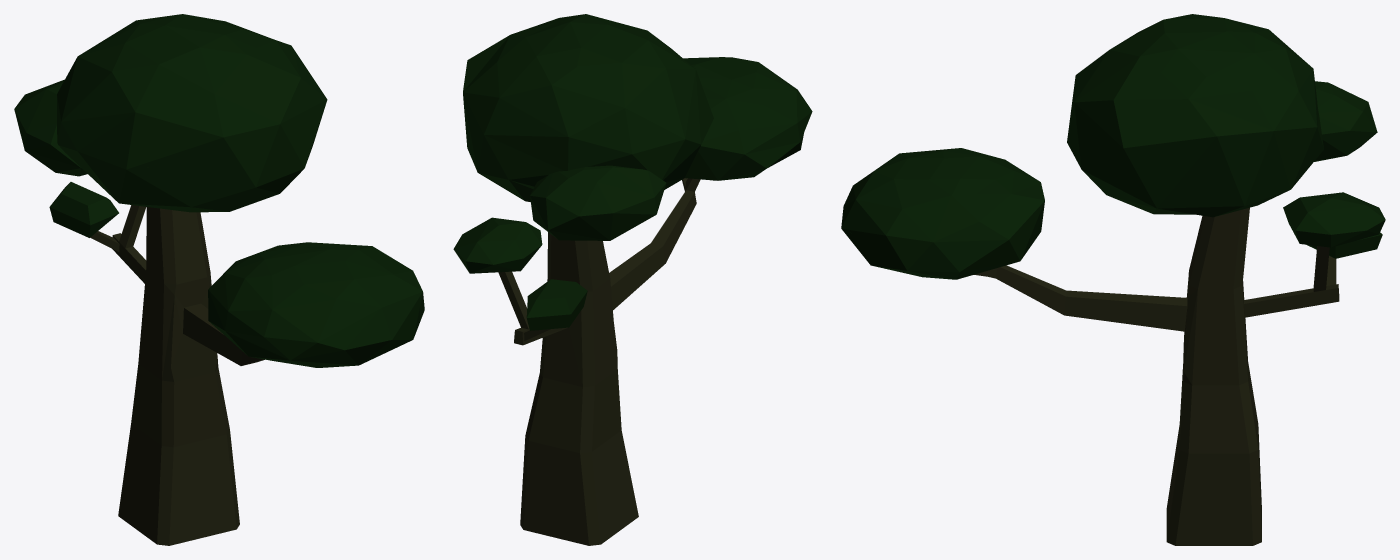
The model's file is arbre1.FBX.
3 renders of one model, left to right at view 1: azimuth 30°, elevation 25°; view 2: azimuth 150°, elevation 25°; view 3: azimuth 270°, elevation 25°, orthographic. The views are drawn at different scales.
Visible parts, largest first — view 1: Sphere010, Box004, Sphere011, Sphere009; view 2: Sphere010, Box004, Sphere011, Sphere008, Sphere009; view 3: Sphere010, Box004, Sphere011, Sphere008, Sphere009.
Boxes of the visible parts, box(x1,y1,x2,y2) form: Sphere010: box(14, 14, 327, 212); Box004: box(90, 205, 264, 545); Sphere011: box(208, 242, 424, 367); Sphere009: box(49, 182, 118, 237); Sphere010: box(463, 14, 713, 240); Box004: box(498, 178, 700, 545); Sphere011: box(683, 57, 812, 180); Sphere008: box(453, 217, 542, 273); Sphere009: box(526, 279, 587, 330); Sphere010: box(1067, 14, 1377, 217); Box004: box(974, 207, 1339, 545); Sphere011: box(841, 148, 1044, 279); Sphere008: box(1283, 192, 1385, 247); Sphere009: box(1306, 232, 1382, 258).
Size of the model in its own units: 3.81 by 7.77 by 7.81.
